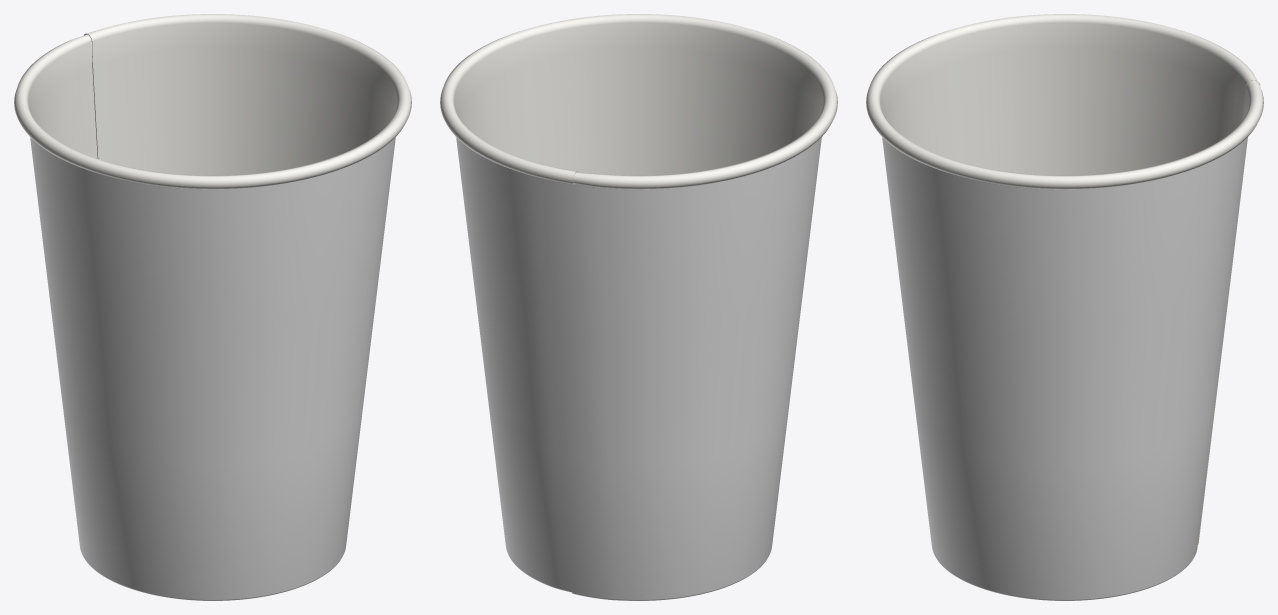
3 views of the same model, side by side, from view 1: azimuth 30°, elevation 25°; view 2: azimuth 150°, elevation 25°; view 3: azimuth 270°, elevation 25° (orthographic).
Parts seen in each view (by area): view 1: Cup_Wall; view 2: Cup_Wall; view 3: Cup_Wall.
Part boxes in pixels (box(x1,y1,x2,y2)): Cup_Wall: box(14, 14, 411, 600); Cup_Wall: box(440, 14, 837, 600); Cup_Wall: box(866, 14, 1263, 600).
Bounding box in the file's own units: 0.0894 × 0.1117 × 0.0894.
3 materials, 1 textured.
